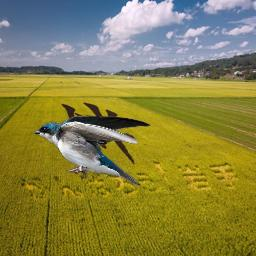Swallow: (33, 114, 151, 187)
